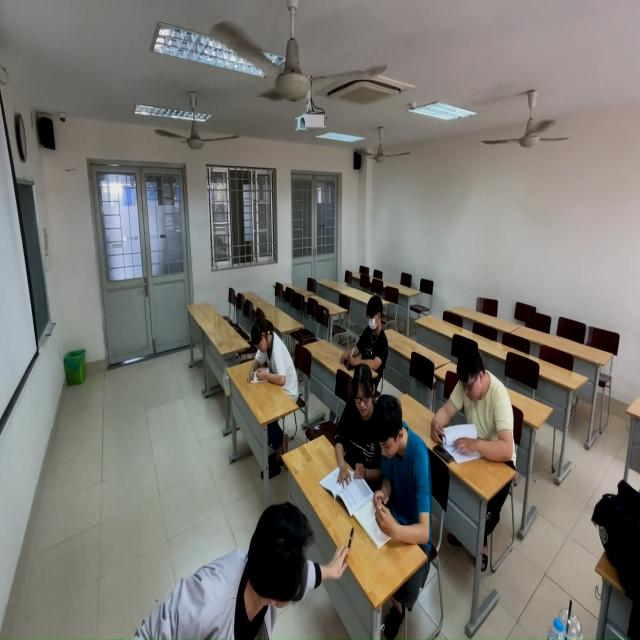read: (371, 357, 433, 560), (443, 343, 528, 472), (319, 355, 383, 491), (242, 316, 302, 403), (342, 295, 395, 375)
